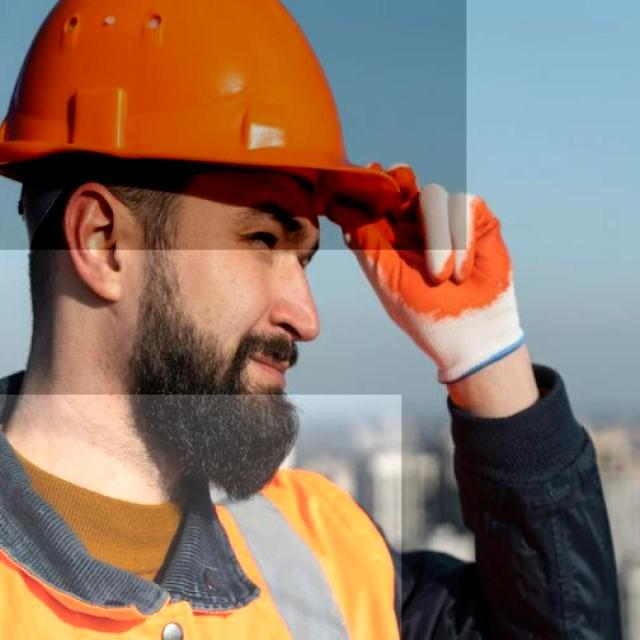Helmet: (0, 0, 466, 250)
Safety Vest: (0, 394, 401, 640)
